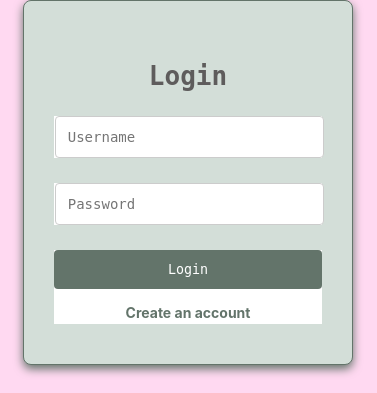
Test: Login Component › shows password error when password is missing
The width and height of the screenshot is (377, 393).
Type "testuser" into the field with placeholder "Username" at (190, 137), box [55, 116, 324, 158]
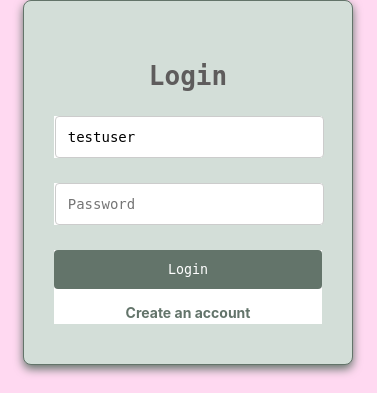
Click the button "Login" at (188, 270), box [54, 250, 322, 289]
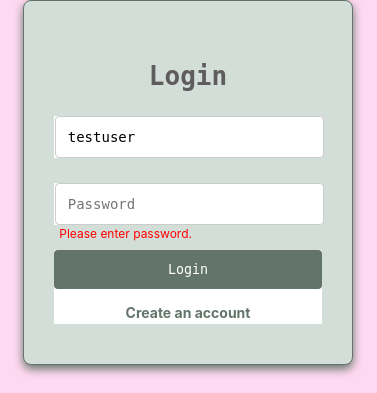
Check: the text "Please enter password." is shown, box [59, 226, 192, 241]
